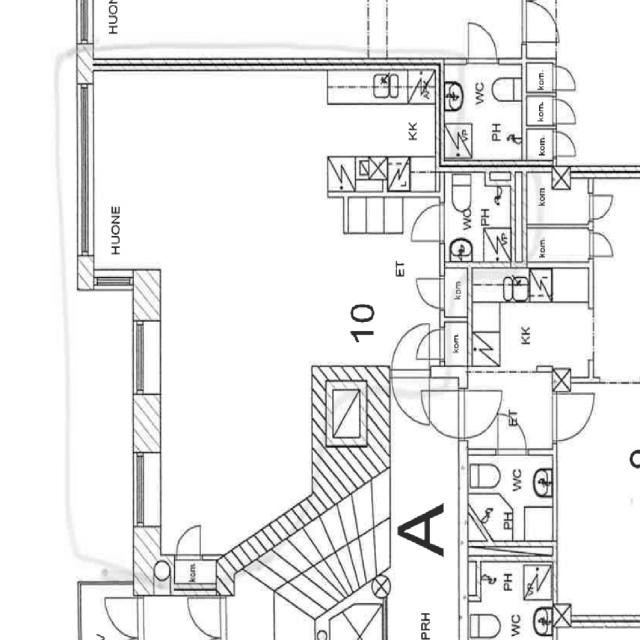door: (391, 321, 446, 370), (460, 387, 504, 447), (550, 388, 596, 443), (100, 591, 146, 640), (460, 16, 502, 68), (415, 323, 464, 365), (406, 197, 446, 246), (520, 0, 561, 47), (185, 591, 224, 639), (496, 415, 530, 457), (412, 272, 447, 312), (173, 520, 206, 562), (586, 189, 616, 222), (586, 228, 616, 260), (551, 95, 580, 128), (551, 62, 580, 92), (552, 127, 578, 160)
window: (74, 81, 99, 256), (128, 316, 162, 400), (129, 448, 158, 532), (559, 609, 640, 635), (74, 0, 95, 48)
zone: (555, 382, 640, 624), (320, 63, 440, 202), (557, 0, 639, 173), (467, 272, 593, 373), (593, 177, 640, 388), (465, 451, 556, 554), (442, 62, 526, 164), (440, 168, 520, 266), (466, 557, 556, 639), (524, 172, 590, 227), (527, 225, 590, 267), (524, 60, 556, 129), (442, 318, 471, 369), (524, 125, 555, 166)
